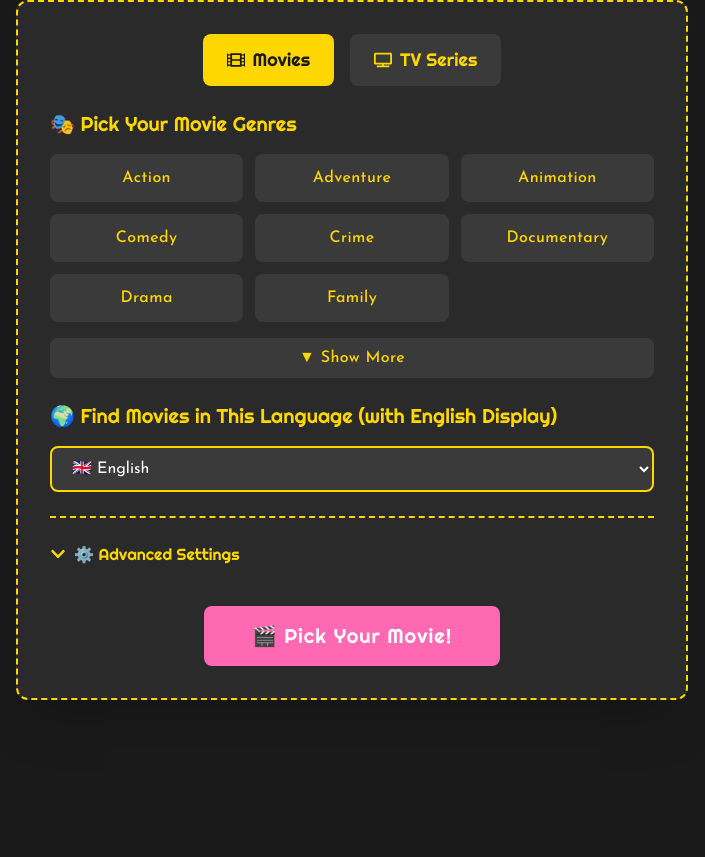
MoviePreferencesForm › toggles advanced settings
The width and height of the screenshot is (705, 857).
Expected: the text "📅 Year Range" is not shown
// Show advanced settings
Click the button "⚙️ Advanced Settings". click: (145, 554)
box: [50, 542, 240, 566]
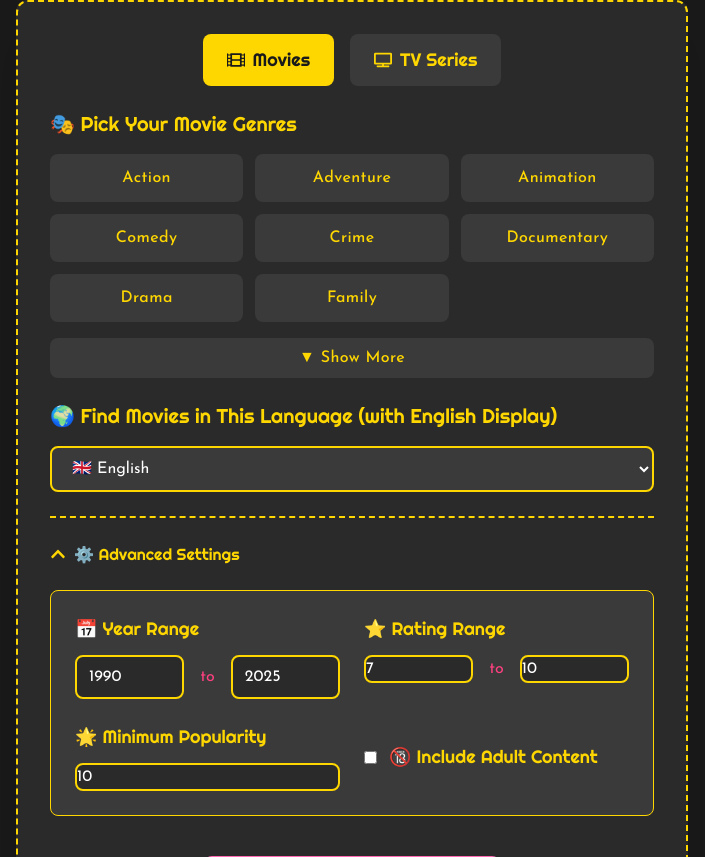
Result: the text "📅 Year Range" is shown at [75, 617, 199, 640]
Result: the text "⭐ Rating Range" is shown at [364, 617, 505, 640]
